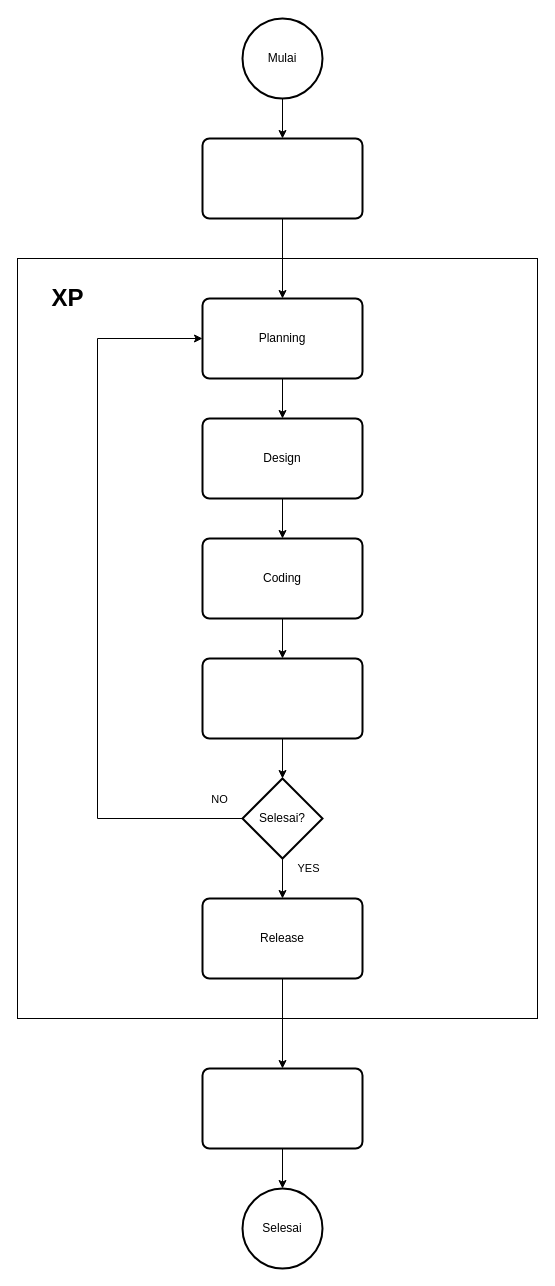
The diagram is 555 pixels wide and 1286 high, and some of its shapes have lost their labels. Here are the shapes that lost their labels. From the top down, the centre of each, then its label:
(282,178): Studi Literatur
(282,698): Testing
(282,1108): Kesimpulan dan Saran
